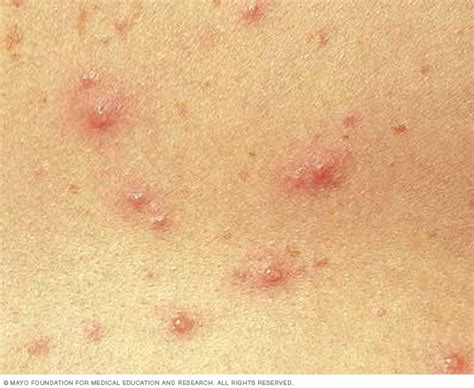Chickenpox: (83, 87, 355, 346)
